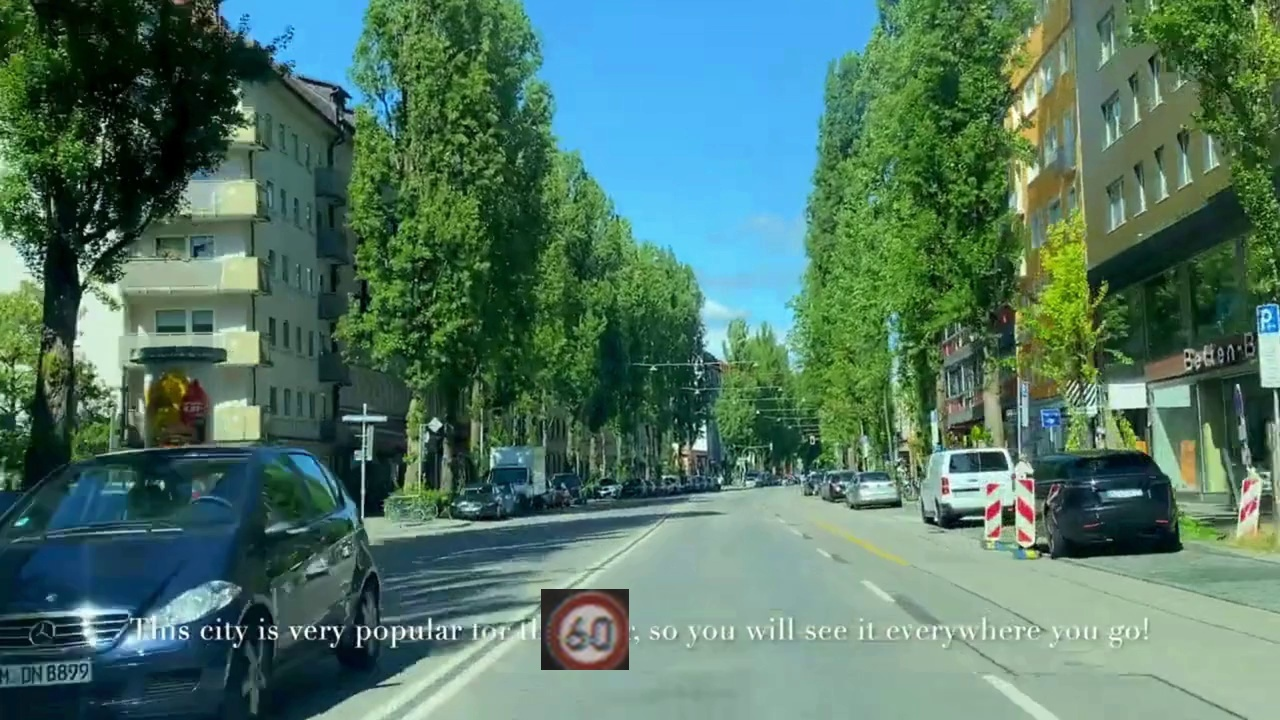Speed 60: (541, 589, 629, 670)
